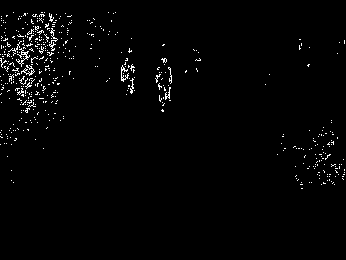person: (155, 56, 174, 113)
